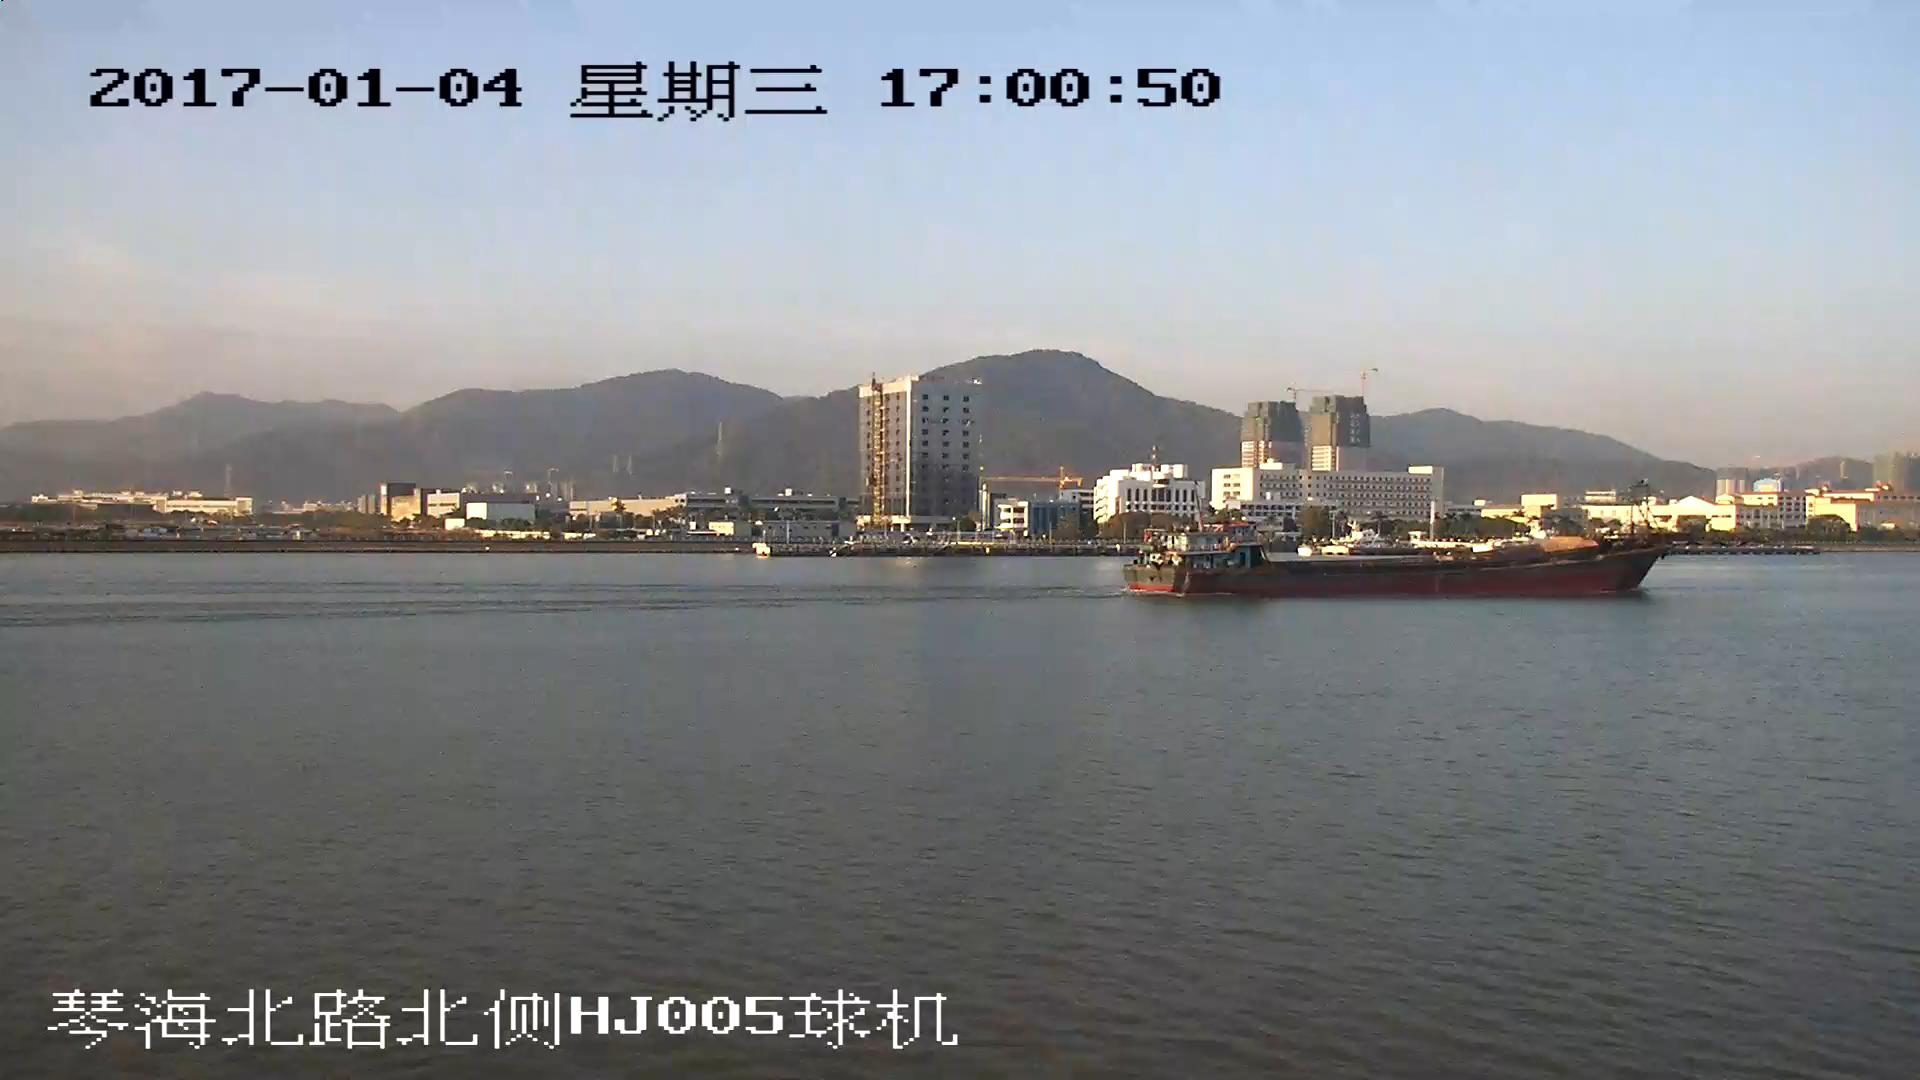bulk cargo carrier: (1126, 525, 1667, 598)
